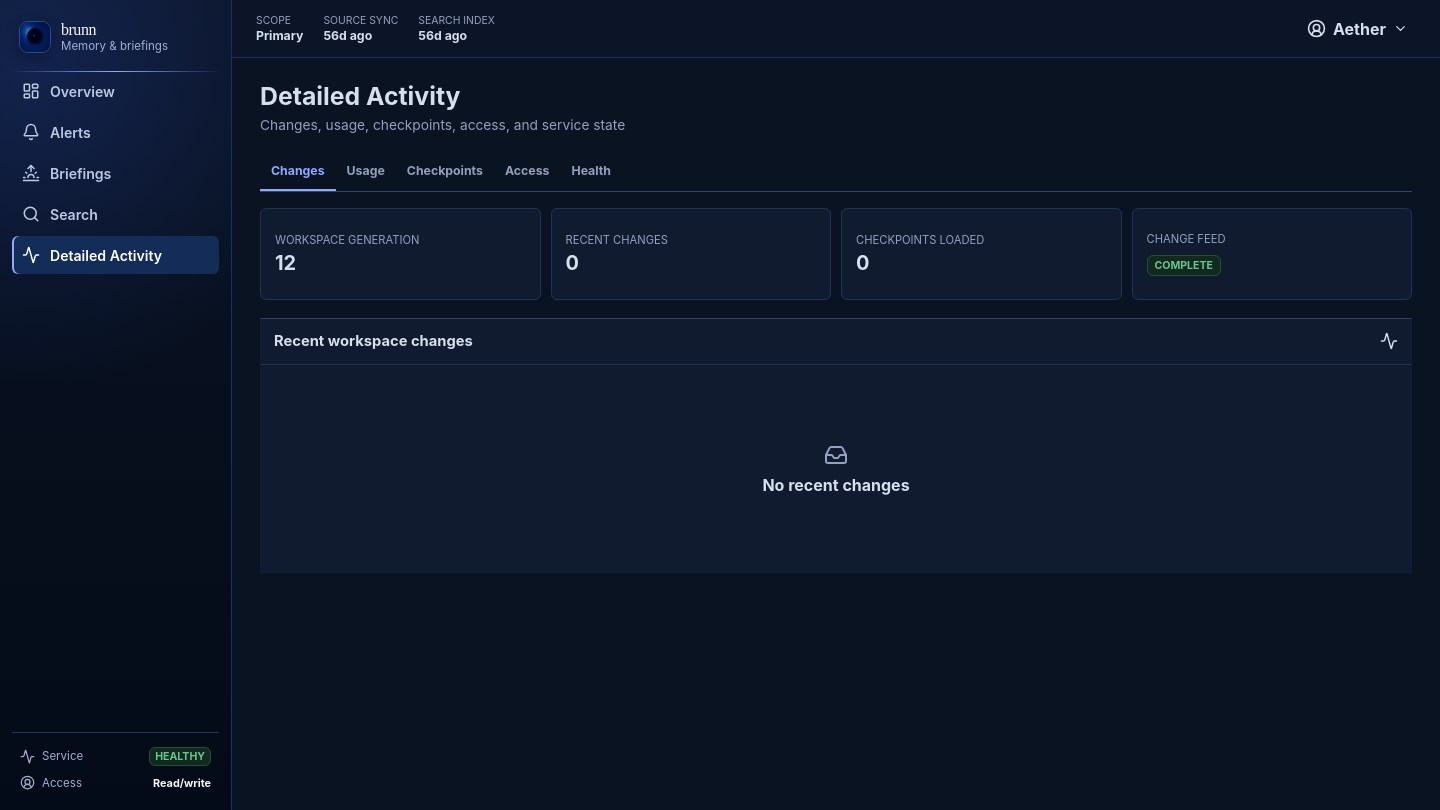
Scenario: workspace activity and access › switches among the four workspace usage rankings
What coordinates should you click on to do the following:
click the tab "Usage"
I would click on:
 (366, 172)
Its box is [336, 153, 396, 191].
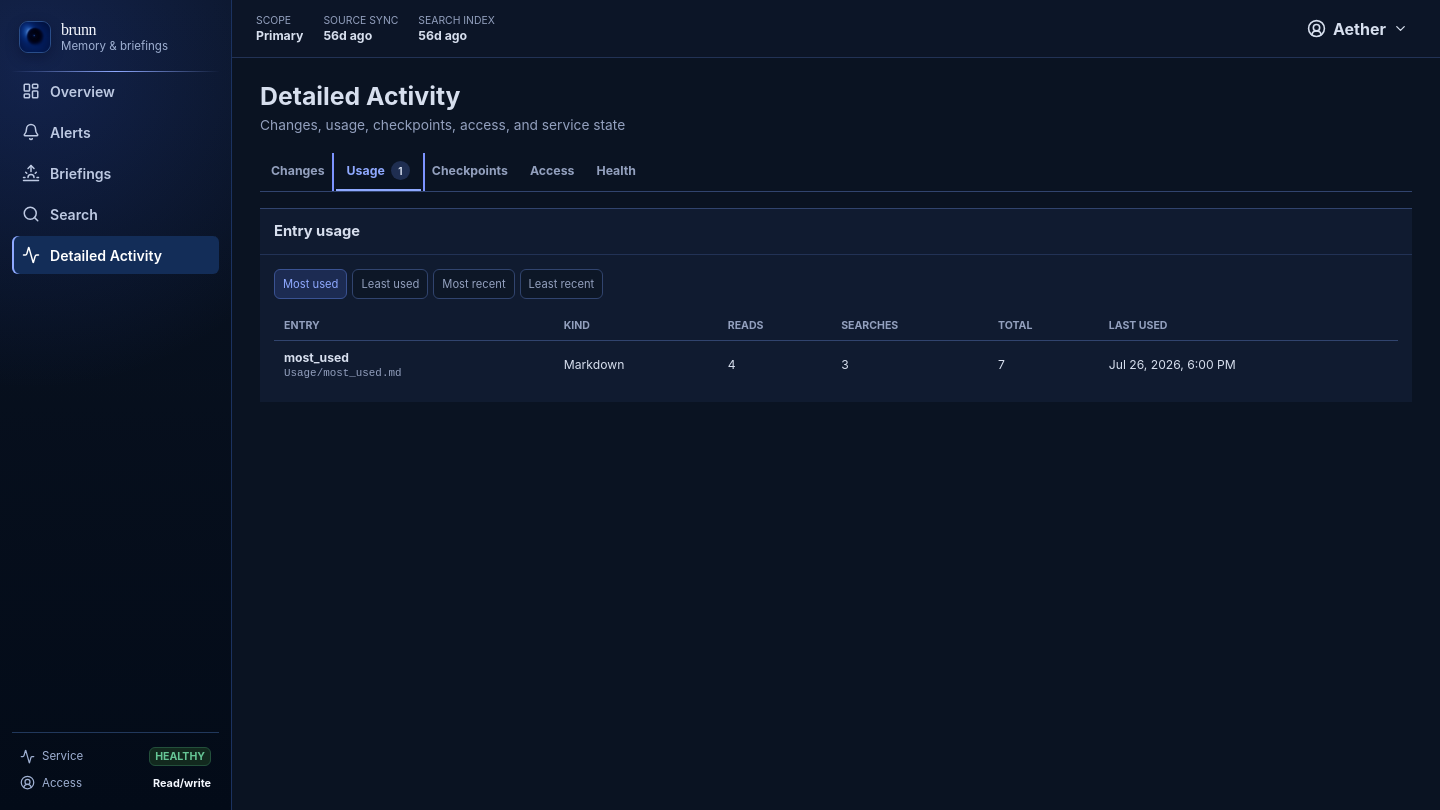
Check: the text "Usage/most_used.md" is shown, box [284, 367, 402, 379]
What coordinates should you click on to do the following:
click the button "Least used"
I would click on:
 (390, 284)
Its box is [352, 269, 428, 299].
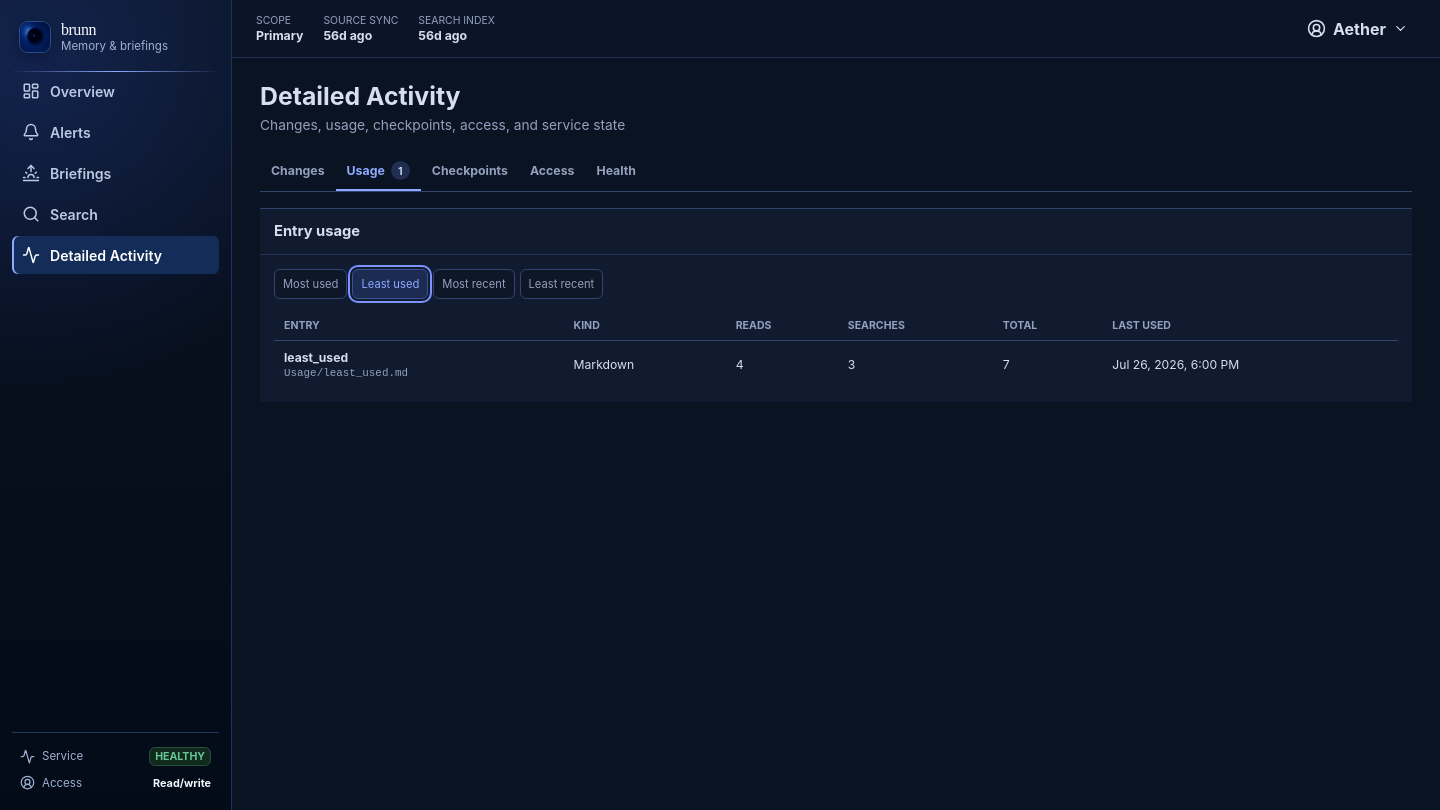
Check: the text "Usage/least_used.md" is shown, box [284, 367, 408, 379]
What coordinates should you click on to do the following:
click the button "Most recent"
I would click on:
 (474, 284)
Its box is [433, 269, 515, 299].
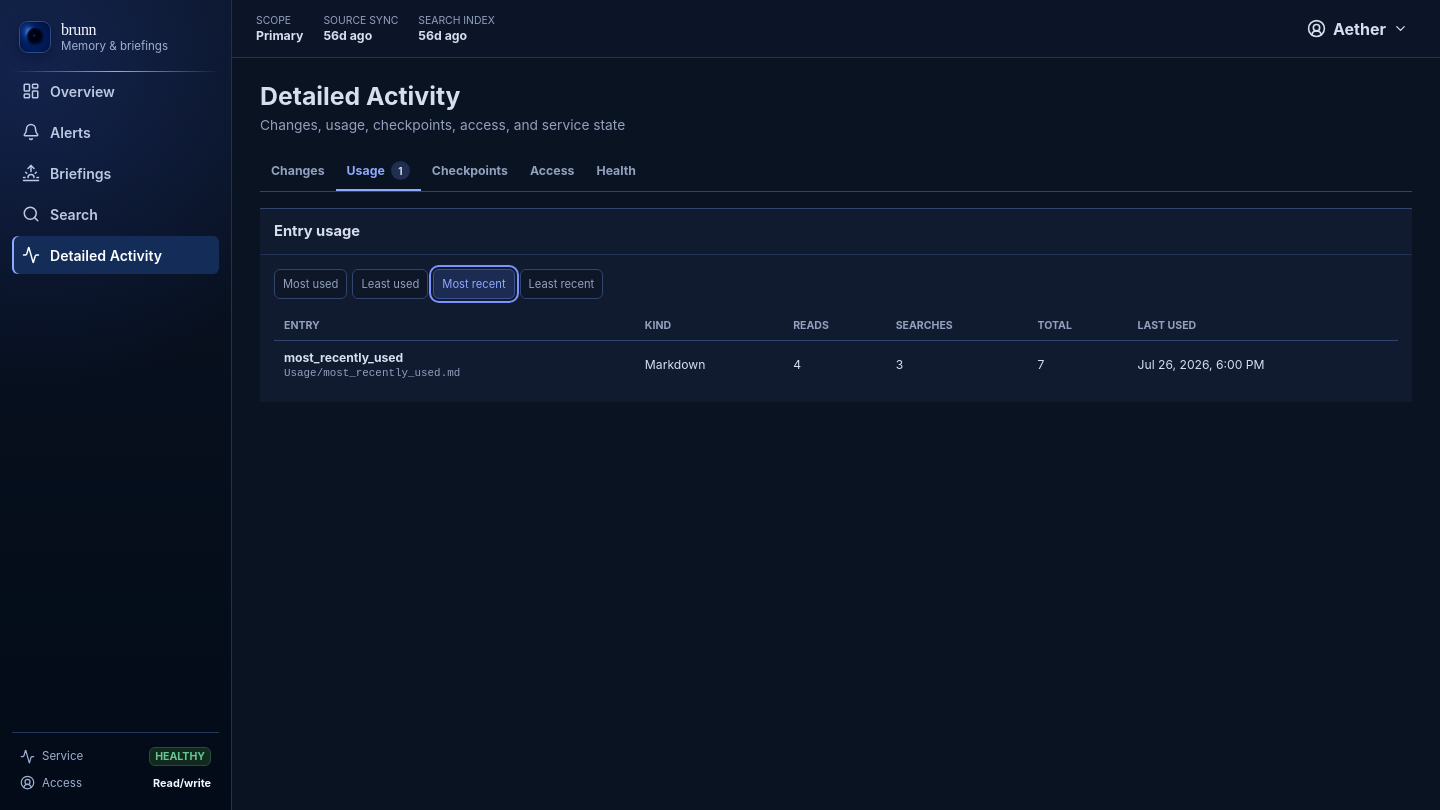
Check: the text "Usage/most_recently_used.md" is shown, box [284, 367, 460, 379]
What coordinates should you click on to do the following:
click the button "Least recent"
I would click on:
 (561, 284)
Its box is [520, 269, 603, 299].
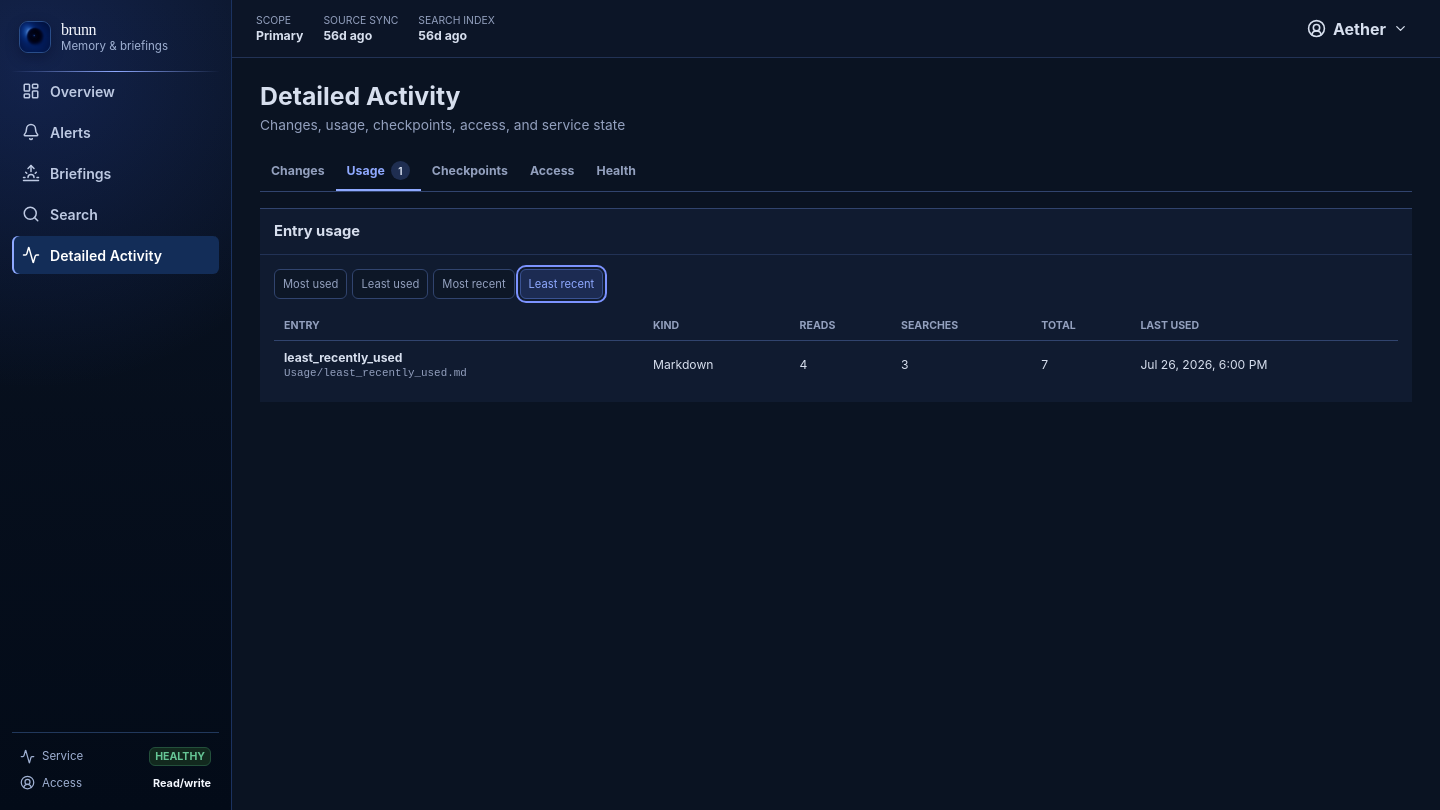
Check: the text "Usage/least_recently_used.md" is shown, box [284, 367, 467, 379]
